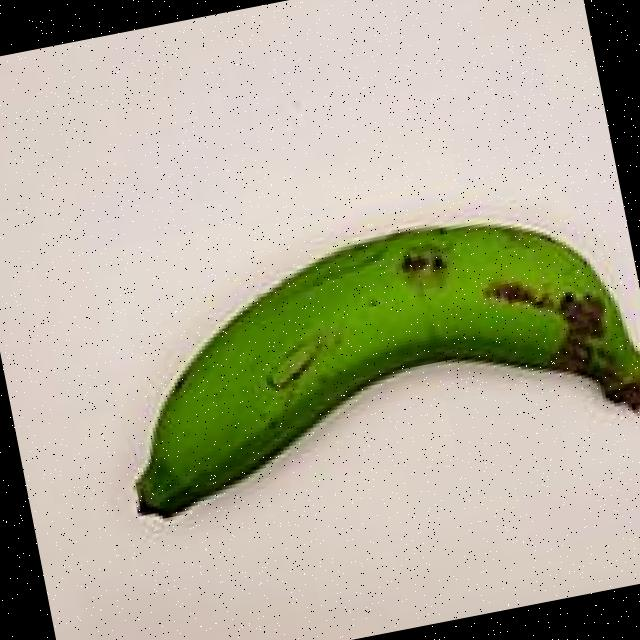Raw: (80, 179, 640, 578)
